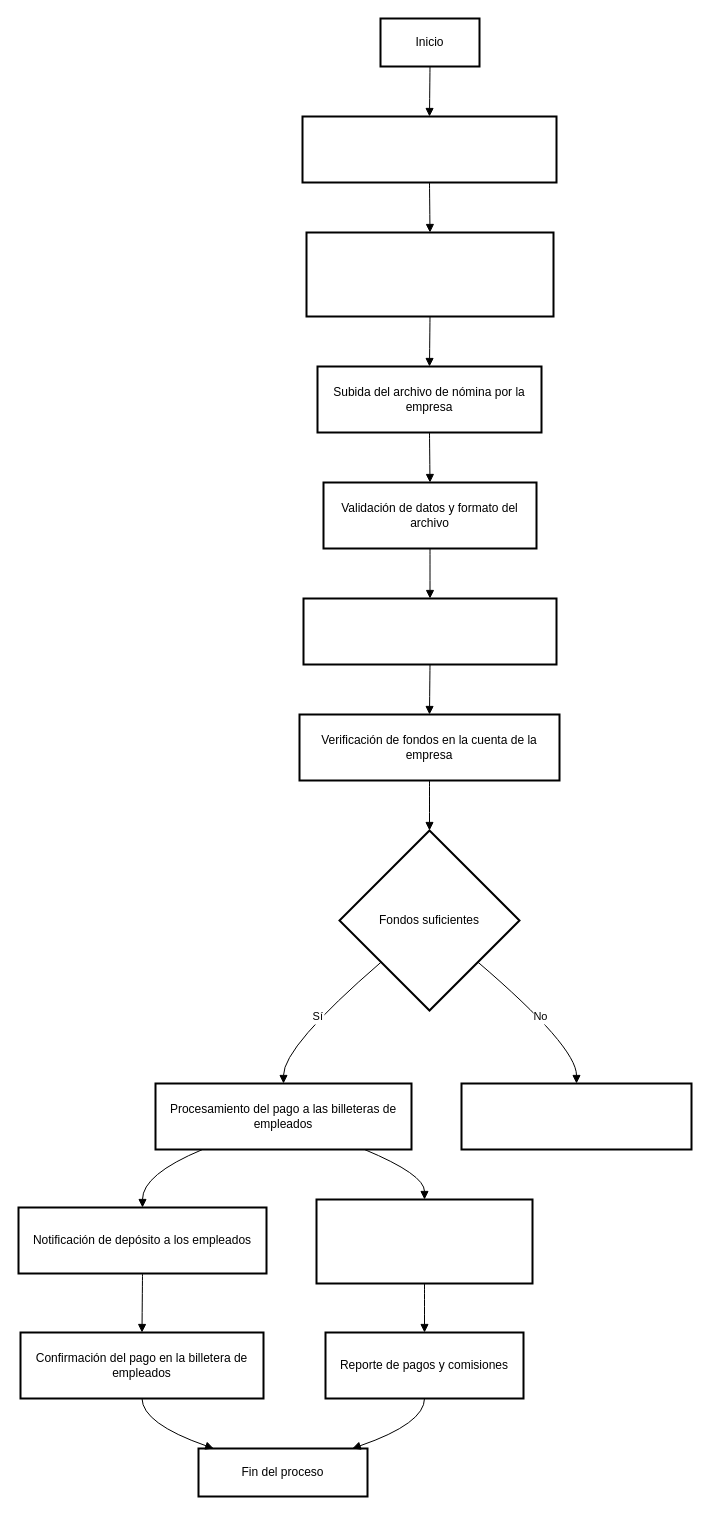
This 709x1514 diagram has some shape labels left out. Each missing label, with the box of its shape:
Configuración de datos de empleados en la plataforma: (305, 231, 554, 317)
Confirmación de la nómina para procesamiento: (302, 597, 557, 665)
Empresa registra su cuenta en la billetera electrónica: (301, 115, 557, 183)
Generación de comprobantes para la empresa: (315, 1198, 533, 1284)
Notificación de falta de fondos a la empresa: (460, 1082, 692, 1150)
